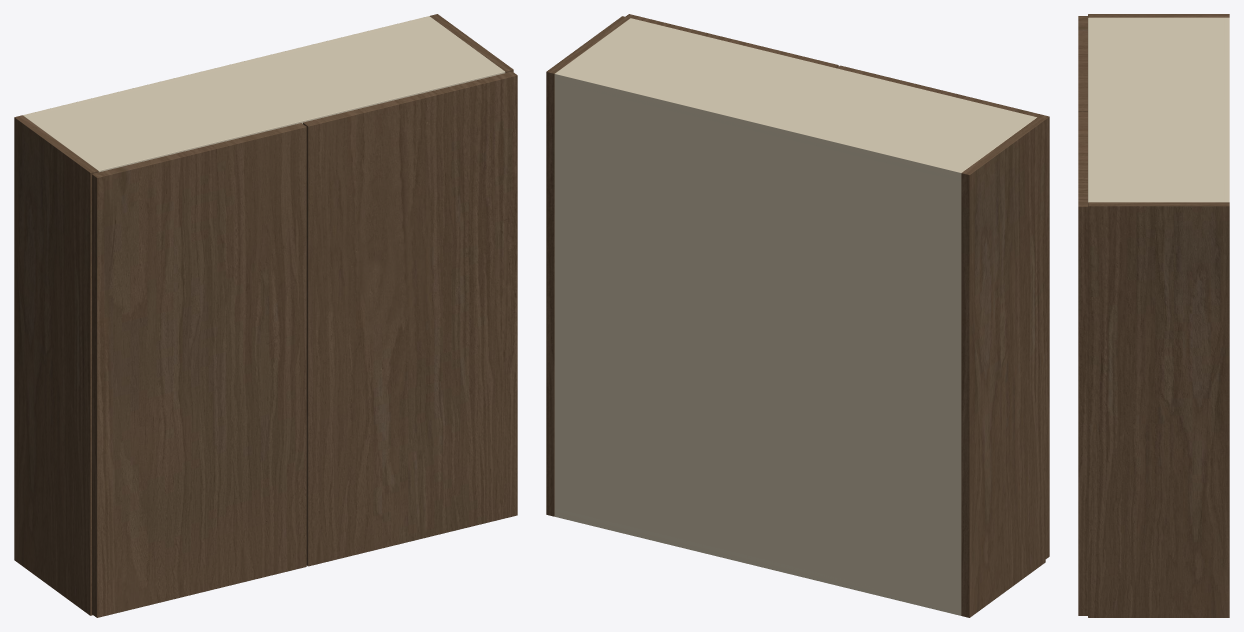
File: oppein-ply-mso-w3636.glb
The picture shows the model from 3 angles, left to right: view 1: azimuth 30°, elevation 25°; view 2: azimuth 150°, elevation 25°; view 3: azimuth 270°, elevation 25°; orthographic projection. The views are drawn at different scales.
Visible parts, largest first — view 1: Door, Door.001, Cabinet side, Cabinet top, Cabinet back, Cabinet side.001; view 2: Cabinet back, Cabinet side, Cabinet top, Cabinet side.001, Door, Cabinet bottom, Door.001; view 3: Cabinet side.001, Cabinet top, Door.001, Cabinet back, Door, Cabinet side.
Boxes of the visible parts, bbox=[...] form: Door: bbox=[92, 123, 306, 617]; Door.001: bbox=[303, 71, 517, 566]; Cabinet side: bbox=[14, 115, 98, 615]; Cabinet top: bbox=[23, 18, 505, 172]; Cabinet back: bbox=[23, 16, 431, 117]; Cabinet side.001: bbox=[430, 14, 513, 72]; Cabinet back: bbox=[554, 71, 963, 615]; Cabinet side: bbox=[961, 117, 1045, 617]; Cabinet top: bbox=[554, 18, 1036, 180]; Cabinet side.001: bbox=[546, 16, 630, 516]; Door: bbox=[836, 65, 1049, 558]; Cabinet bottom: bbox=[554, 508, 960, 615]; Door.001: bbox=[625, 14, 838, 67]; Cabinet side.001: bbox=[1088, 202, 1229, 617]; Cabinet top: bbox=[1088, 17, 1229, 202]; Door.001: bbox=[1078, 111, 1087, 615]; Cabinet back: bbox=[1224, 17, 1229, 202]; Door: bbox=[1078, 16, 1087, 111]; Cabinet side: bbox=[1088, 14, 1229, 17].
Size of the model in its own units: 0.9144 by 0.9144 by 0.3048.
2 materials, 1 textured.
